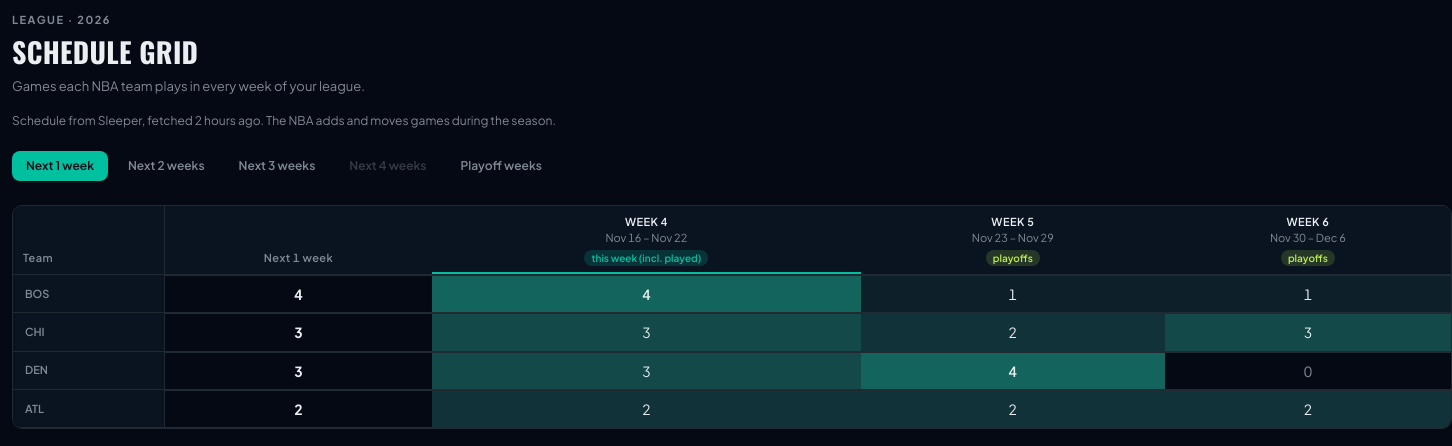
Test: Schedule grid › ranks most games first and breaks ties by team code
Check: the column heading "BOS" is shown, box [13,275,165,314]
Click the button "Next 2 weeks": (166, 166) [114,151,219,181]
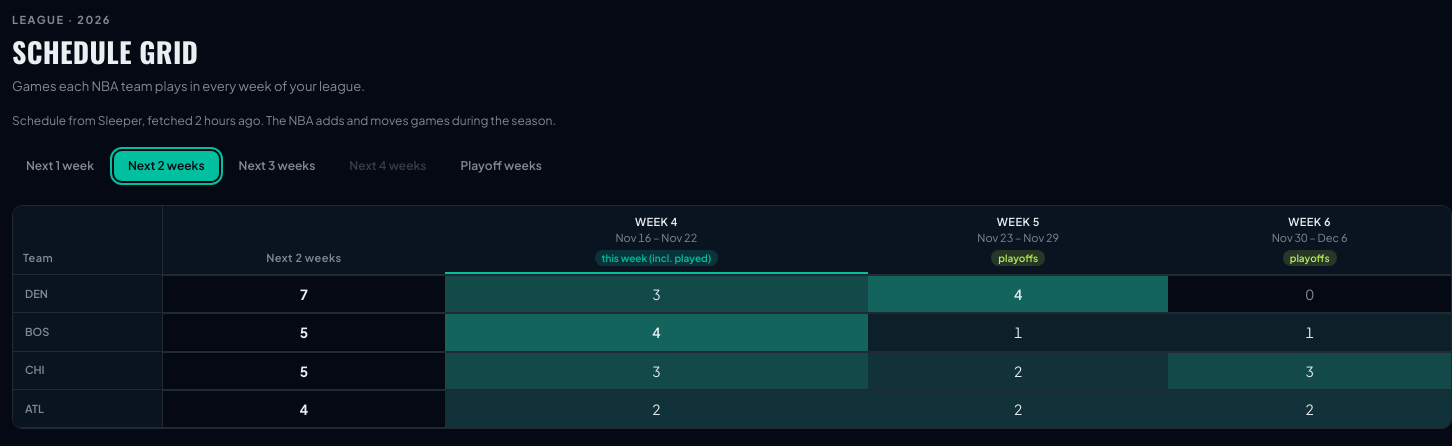
Check: the cell "7" is shown, box [163,275,445,314]
